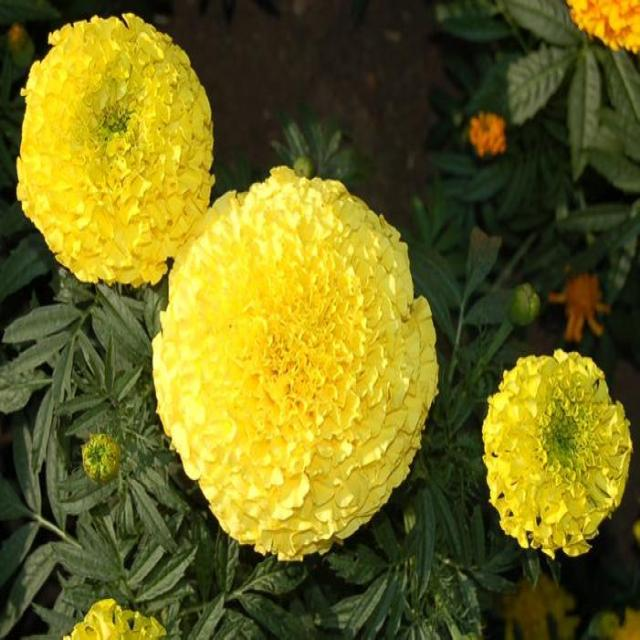marigold: (3, 14, 627, 611)
